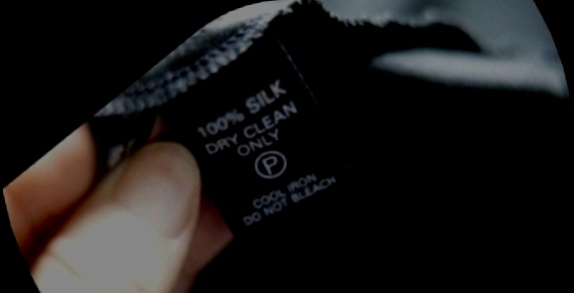dry_clean_any_solvent_except_trichloroethylene: (237, 130, 305, 196)
